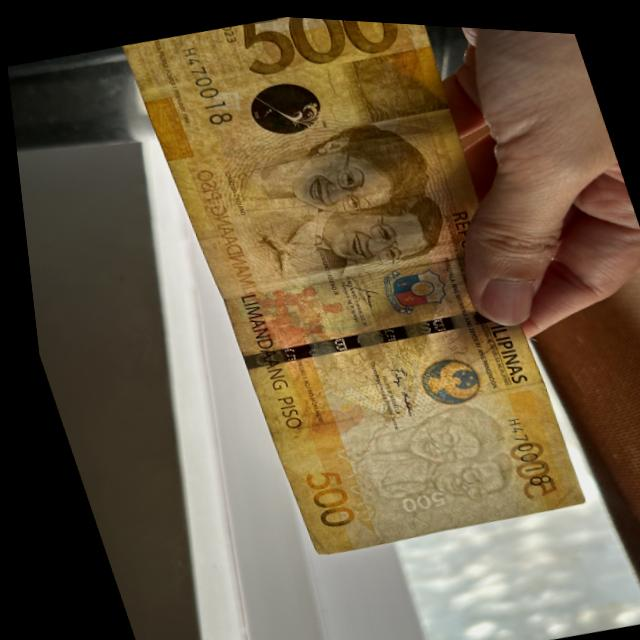concealed_value: (335, 35, 447, 126)
optically_variable_device: (239, 70, 332, 139)
see_through_mark: (313, 433, 368, 525)
value_watermark: (378, 481, 442, 518)
